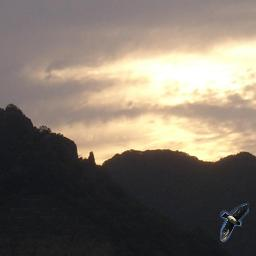Swallow: (220, 203, 249, 242)
